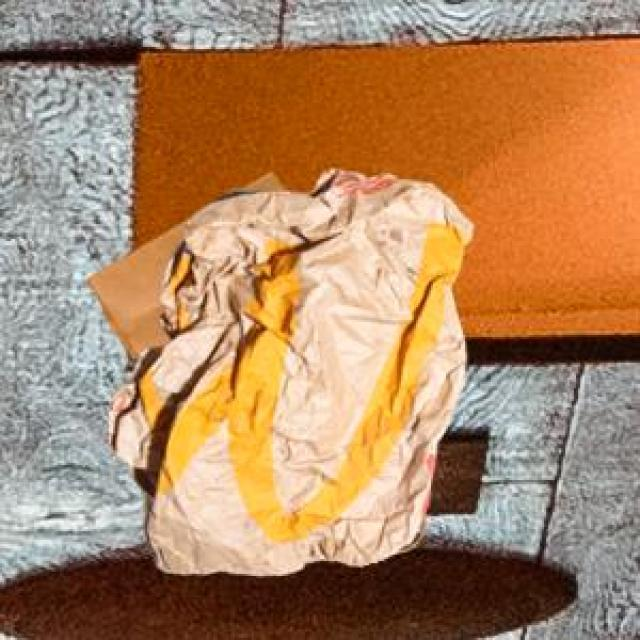Paper_Bag: (106, 165, 470, 573), (84, 170, 281, 358)
